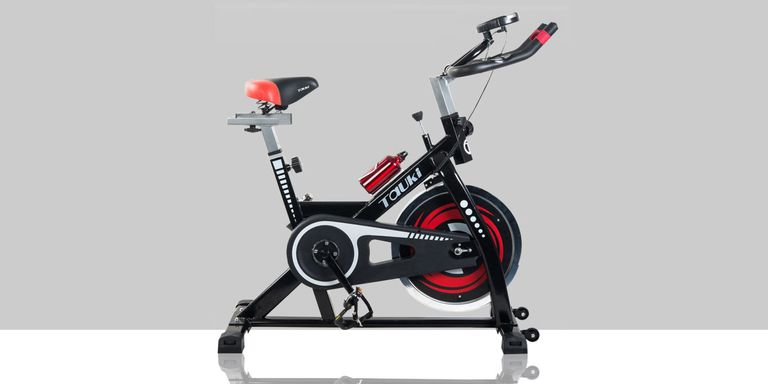gym_bike: (179, 17, 582, 363)
